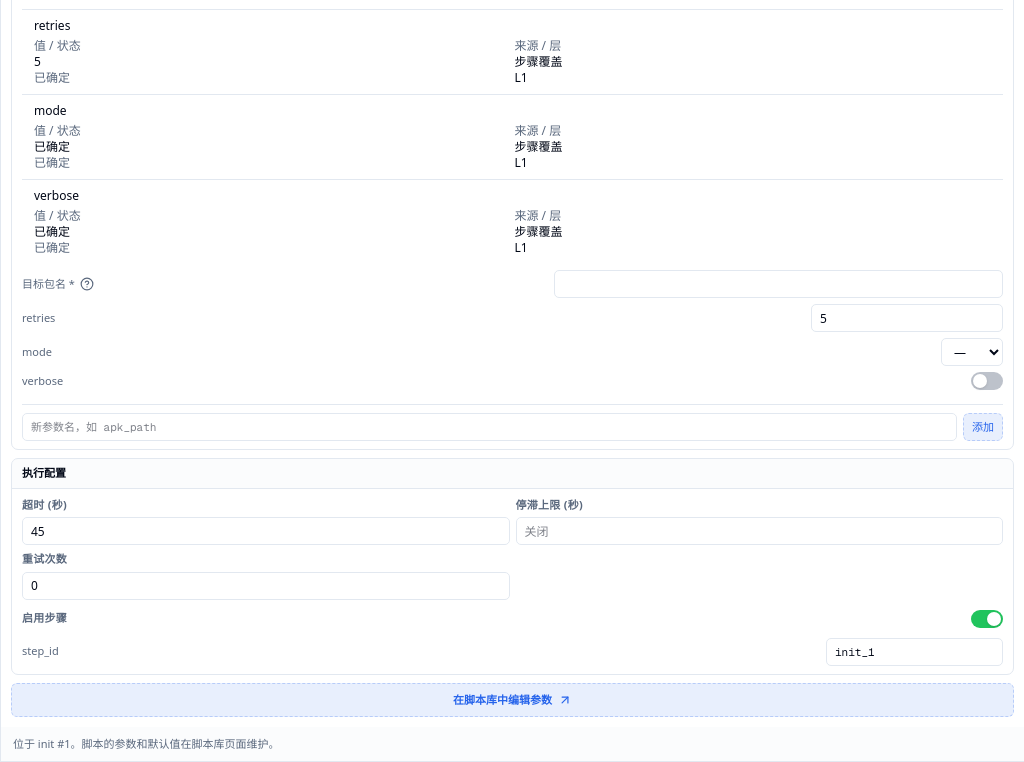
Test: PlanStepInspector › 执行配置 › 小数点开头的输入（如 .5）parseInt 为 NaN，不提交、失焦回落原值
(page scrolled)
Replace the text in the number field below "超时 (秒)" with ".5" at point(266, 531), box 22,517 -> 510,545
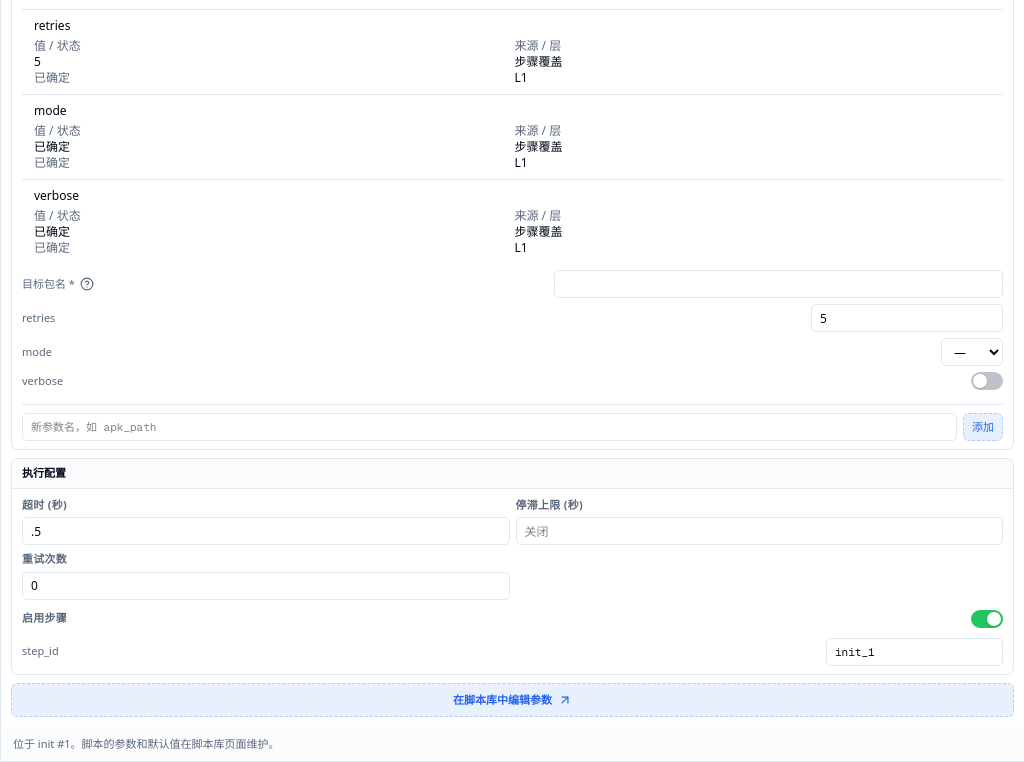
Leave the number field below "超时 (秒)", box 22,517 -> 510,545
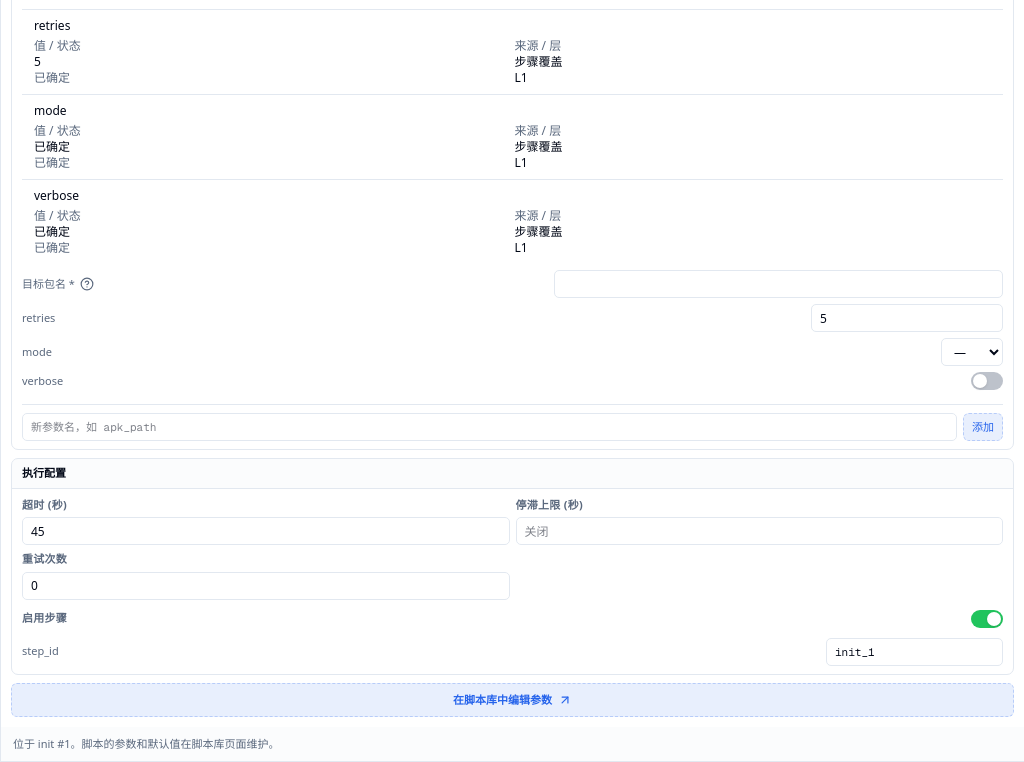
Result: the number field below "超时 (秒)" holds "45" at 22,517 -> 510,545
